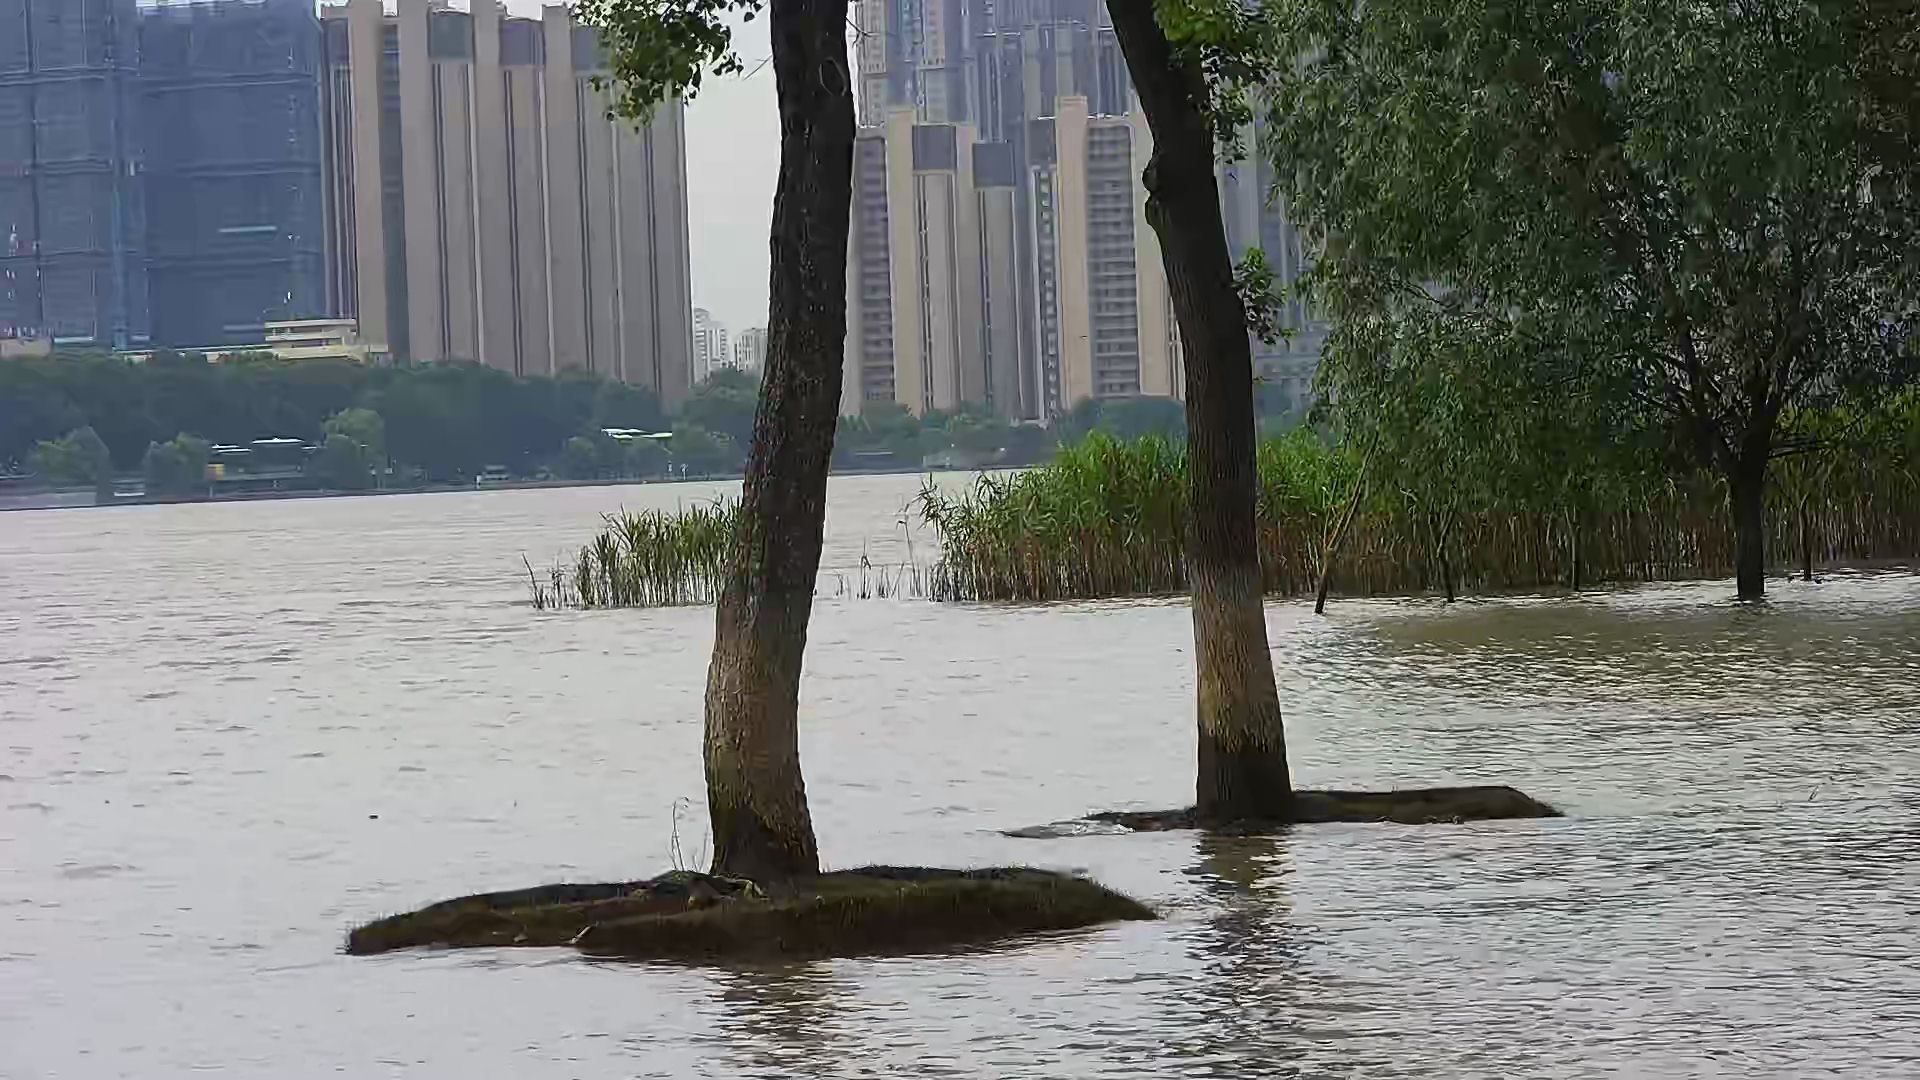grass: (944, 417, 1920, 600), (524, 500, 936, 603)
tree: (339, 1, 1162, 961), (1007, 1, 1563, 833), (1273, 1, 1920, 597)
